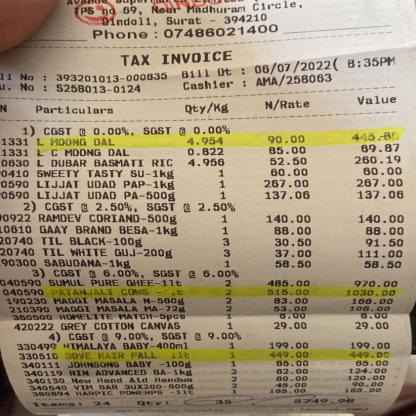receipts: (3, 3, 398, 415)
